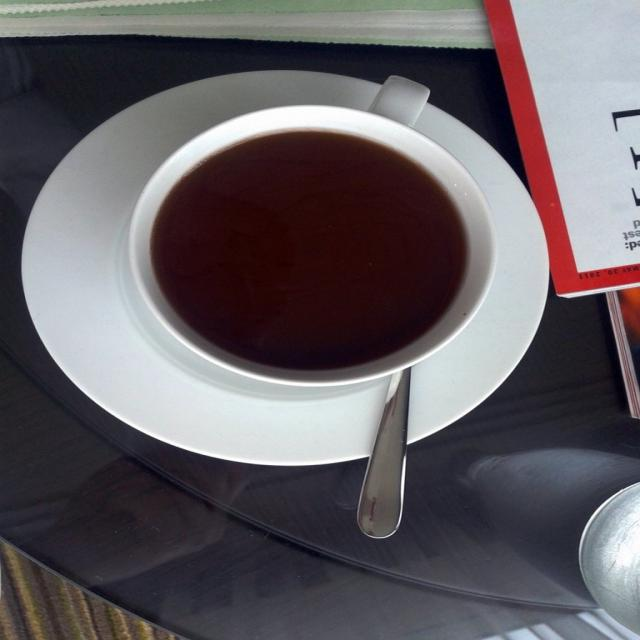Coffee: (151, 127, 467, 370)
Tea: (148, 127, 467, 370)
